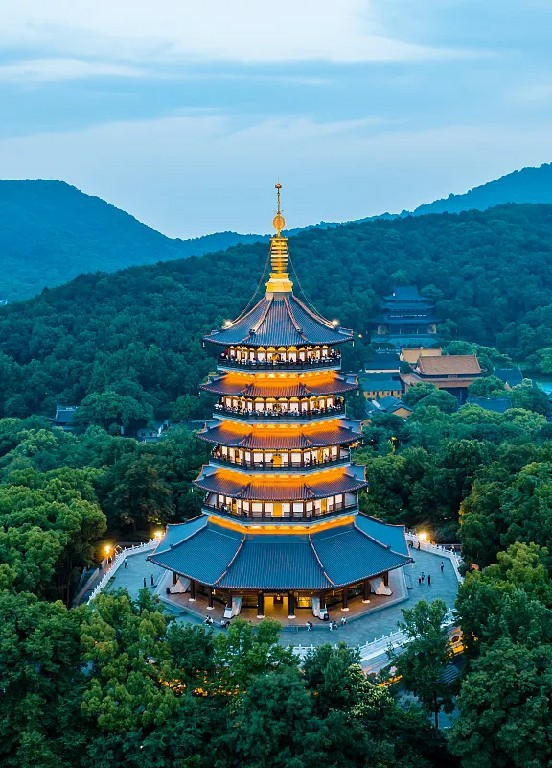Leifeng: (149, 176, 415, 629)
